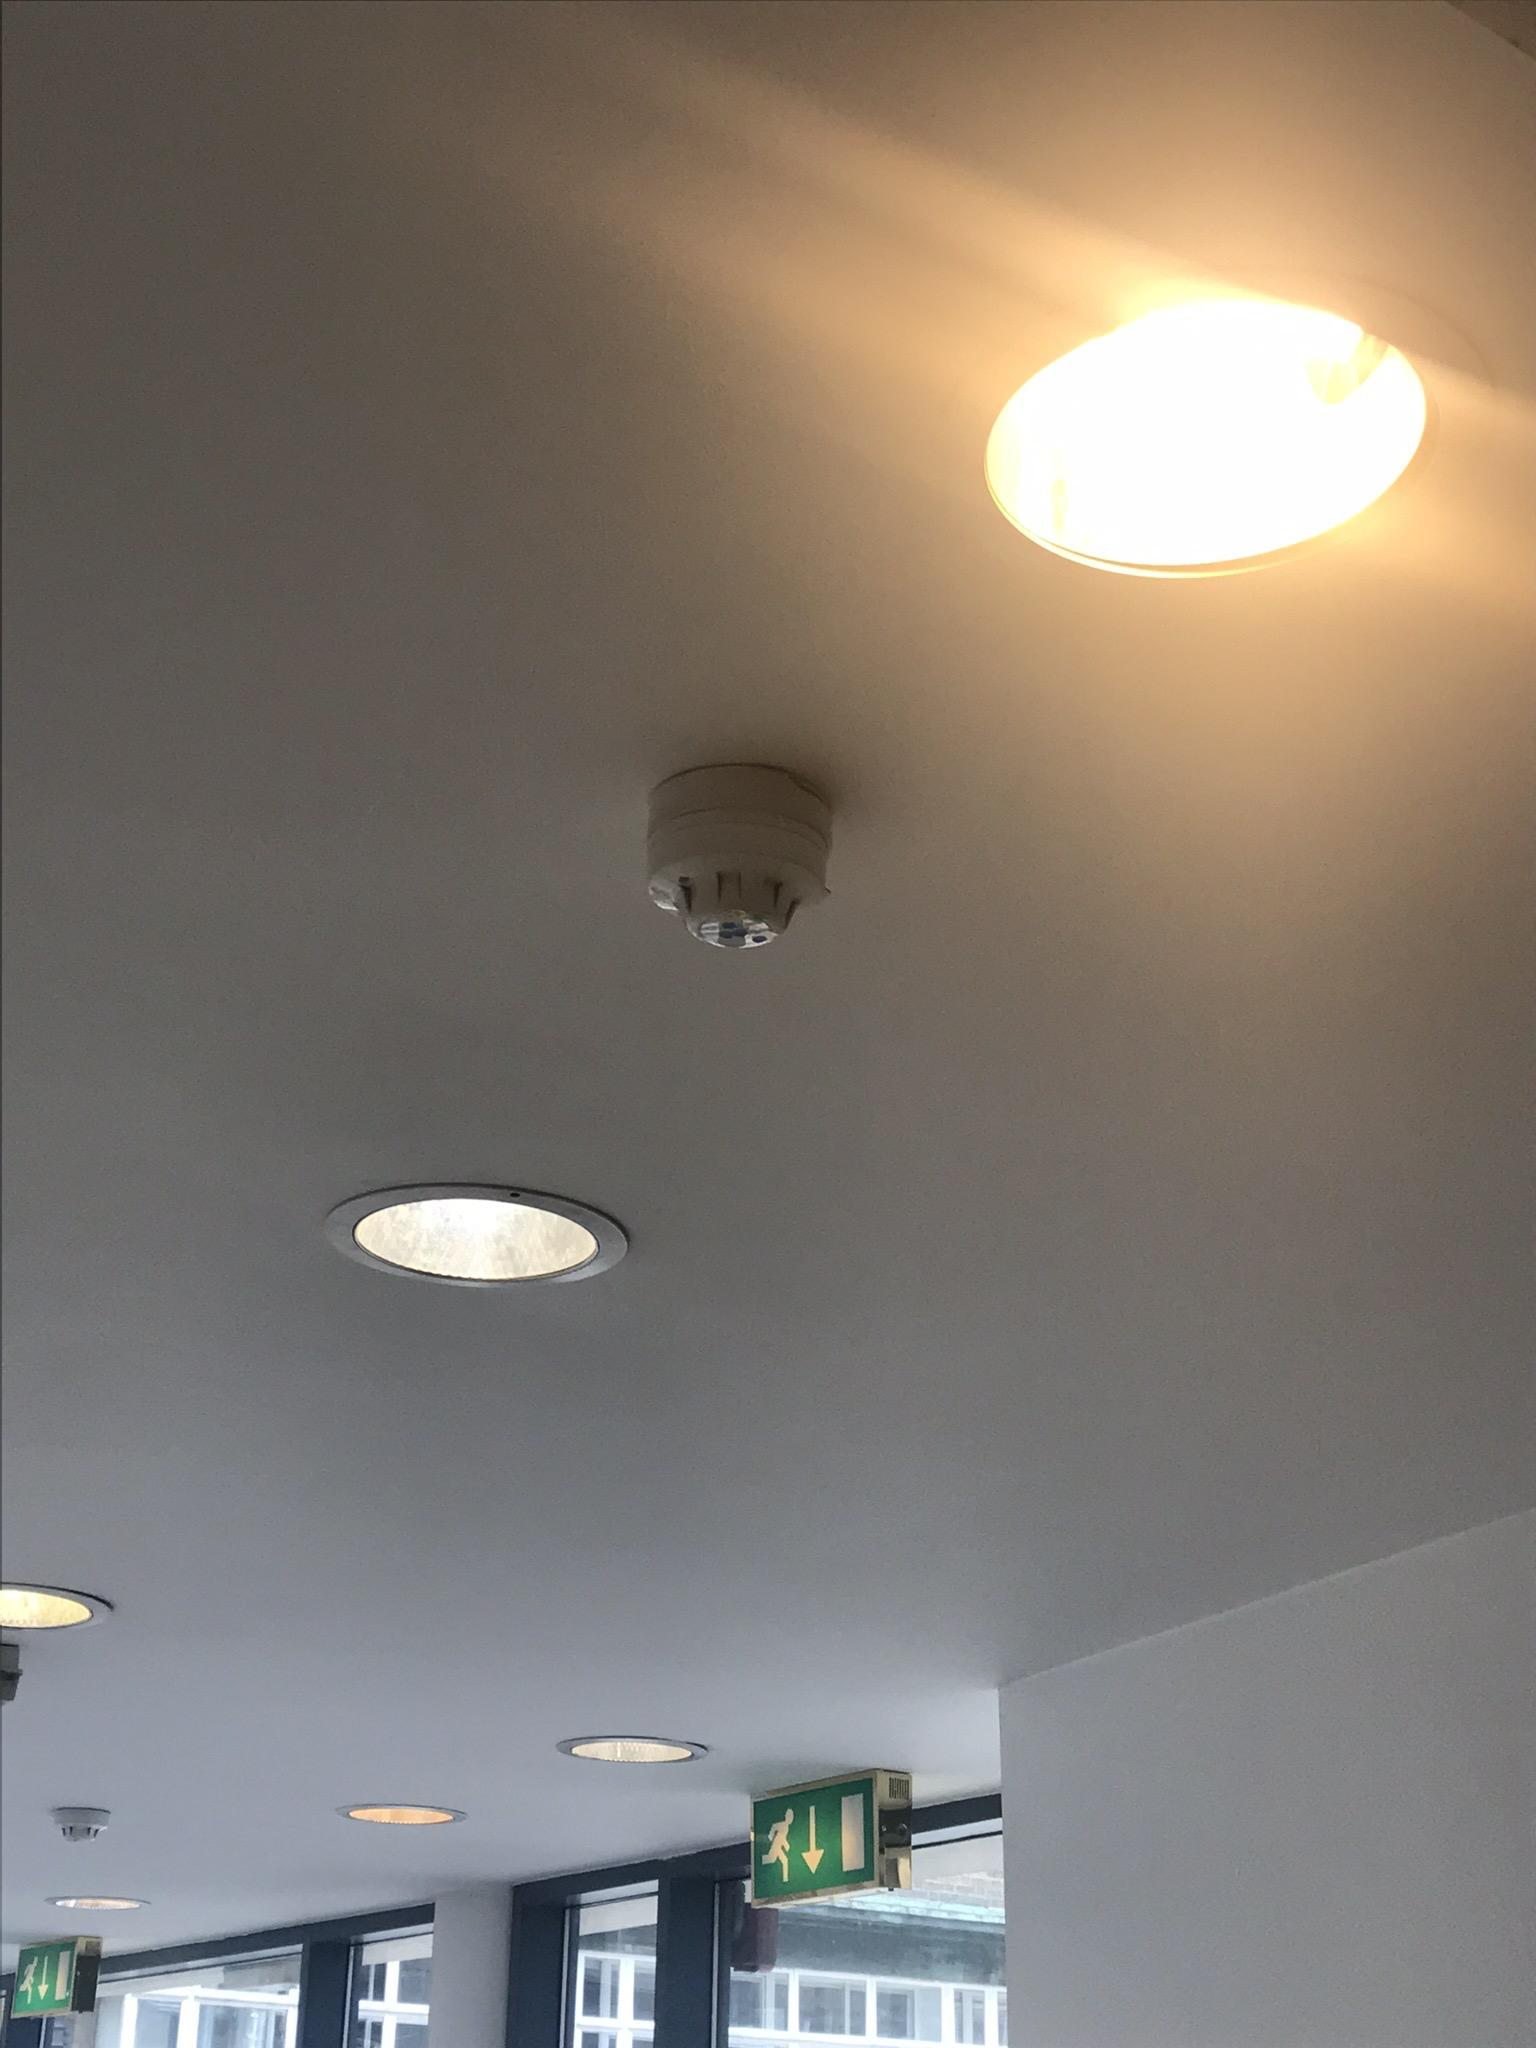detector: (644, 763, 836, 951), (48, 1806, 111, 1845)
